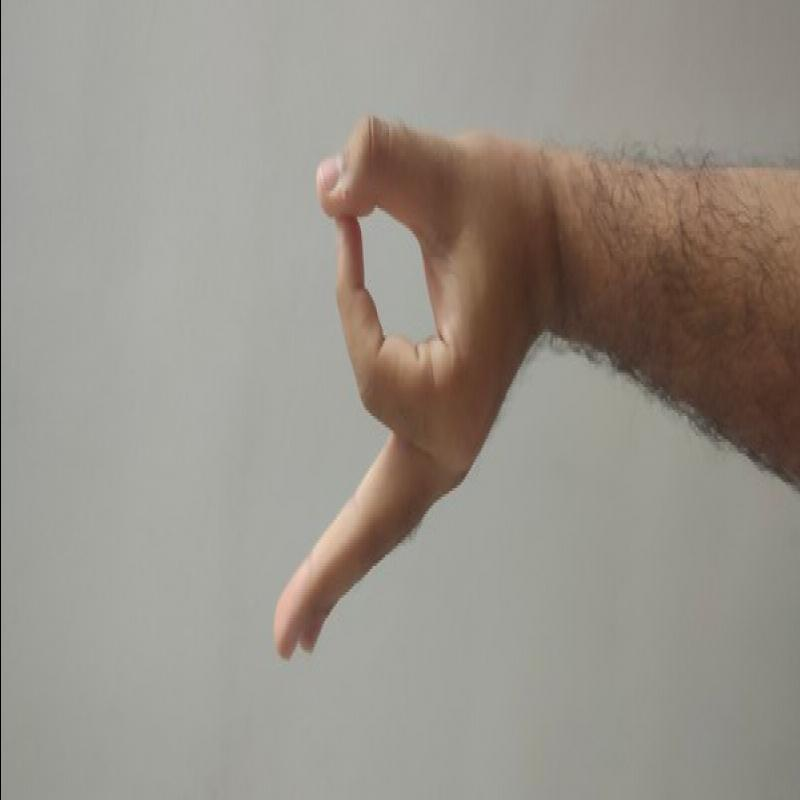Mudraakhyam: (246, 99, 573, 670)
